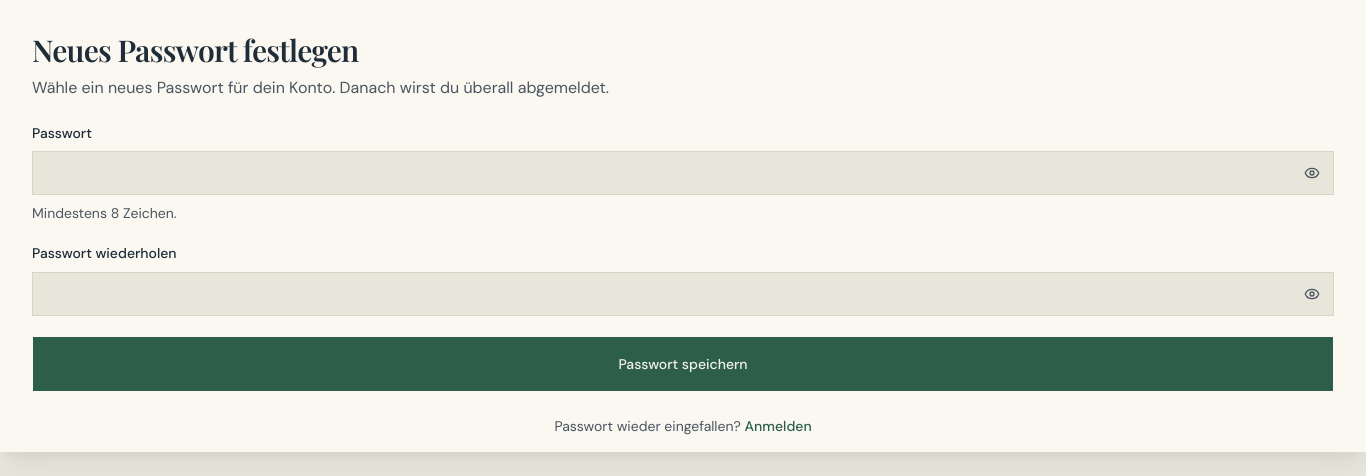
Test case: ResetPasswordFlow › a token the server rejects (expired or used) shows the same
The image size is (1366, 476).
In the password field labelled "Passwort": point(683, 173) x1=32 y1=151 x2=1334 y2=195, type "brand new secret"
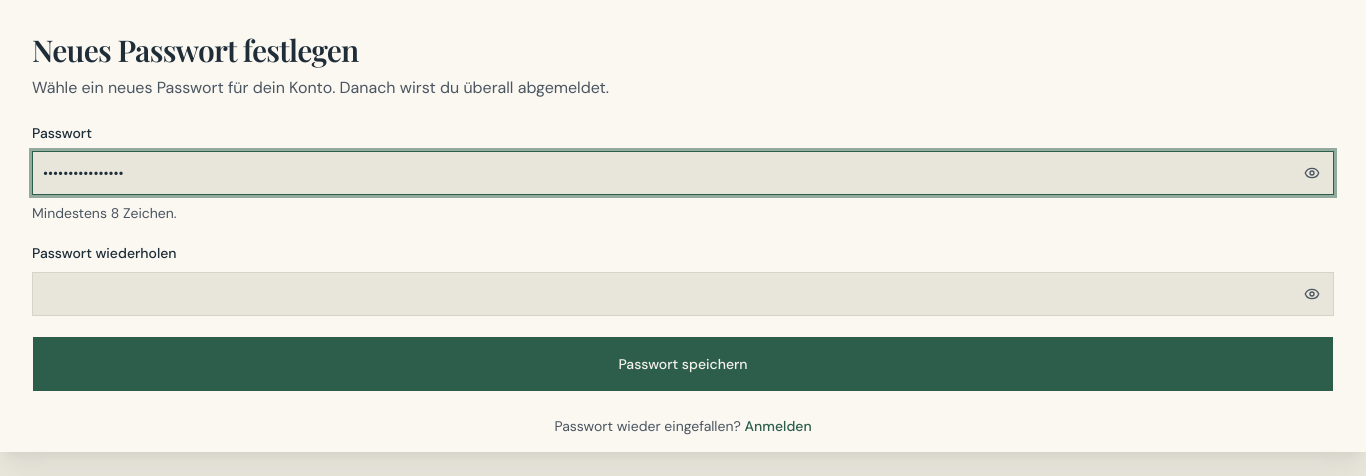
In the password field labelled "Passwort wiederholen": point(683, 294) x1=32 y1=272 x2=1334 y2=316, type "brand new secret"
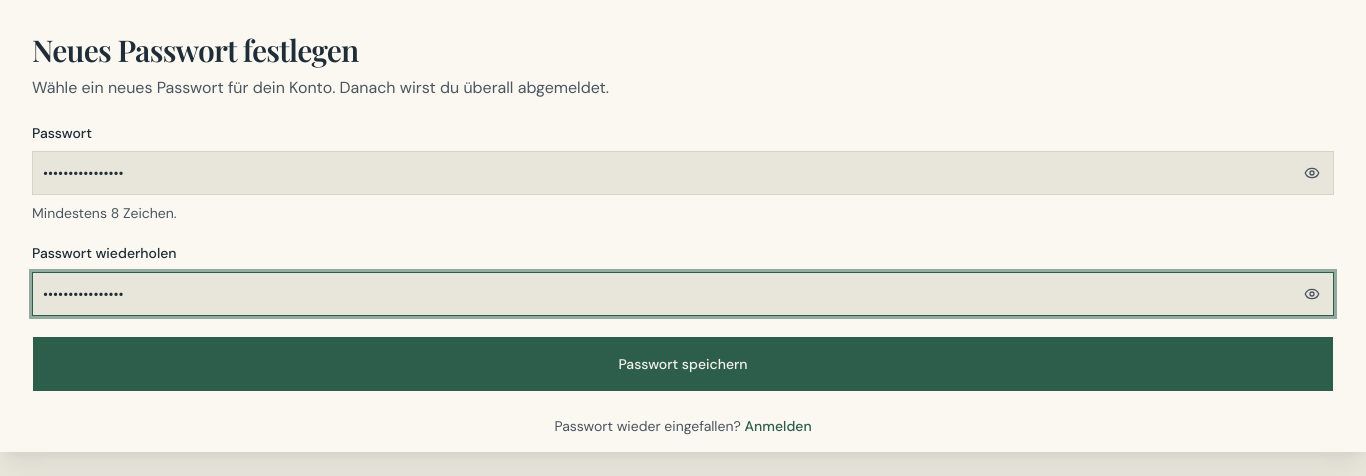
Click the button "Passwort speichern": point(683, 364) x1=32 y1=336 x2=1334 y2=392
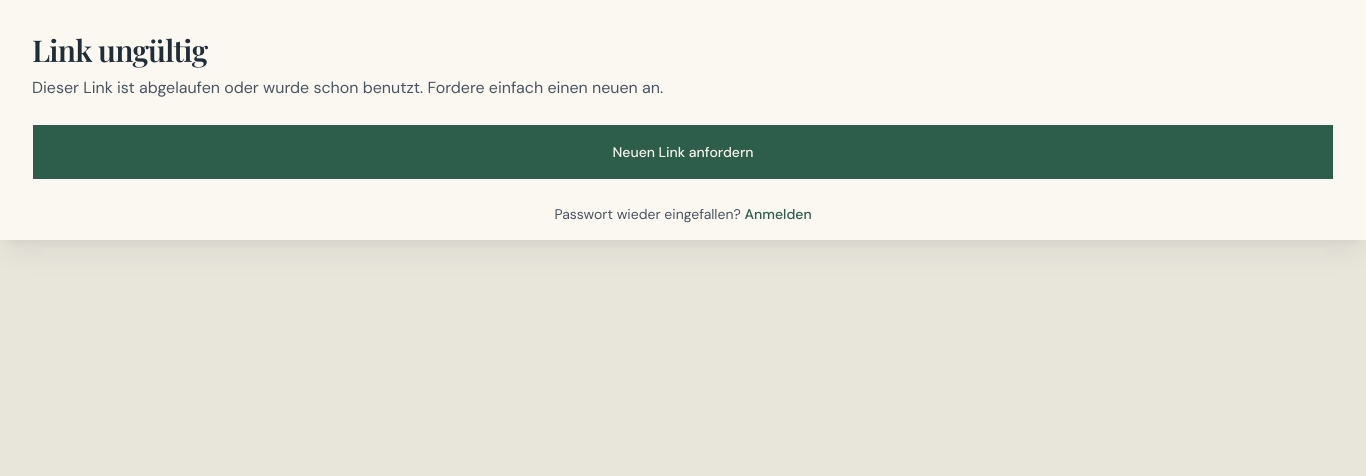
Result: the heading "Link ungültig" is shown at x1=32 y1=30 x2=207 y2=70
